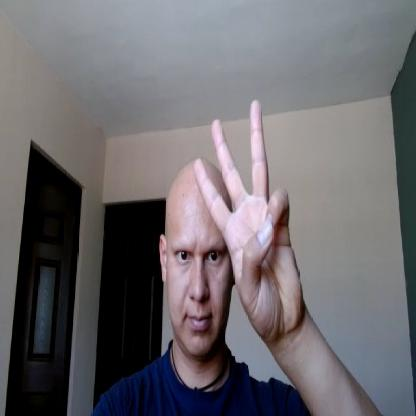W: (193, 101, 302, 338)
